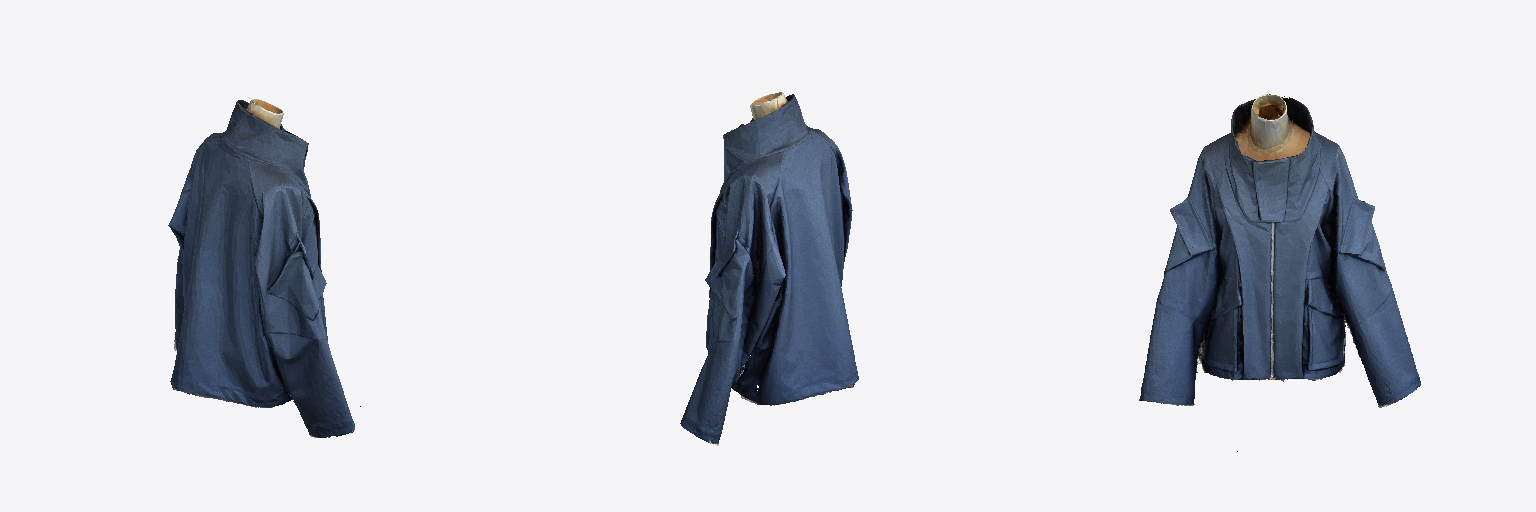
The picture shows the model from 3 angles: view 1: azimuth 30°, elevation 25°; view 2: azimuth 150°, elevation 25°; view 3: azimuth 270°, elevation 25°; orthographic projection.
Parts seen in each view (by area): view 1: mesh.032; view 2: mesh.032; view 3: mesh.032.
Part boxes in pixels (x1,y1,x2,y2): mesh.032: (168,97,360,437); mesh.032: (680,92,858,445); mesh.032: (1139,94,1420,451).
Size of the model in its own units: 5.59 by 12.1 by 8.09.
2 materials, 2 textured.